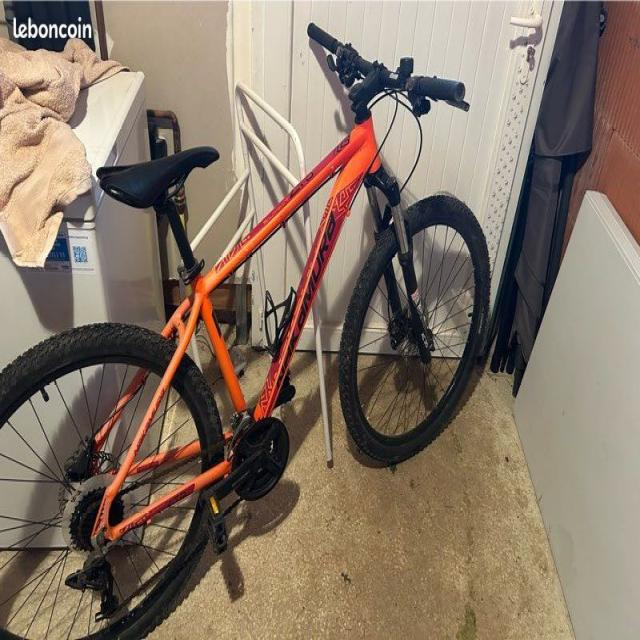Bike: (0, 23, 490, 638)
